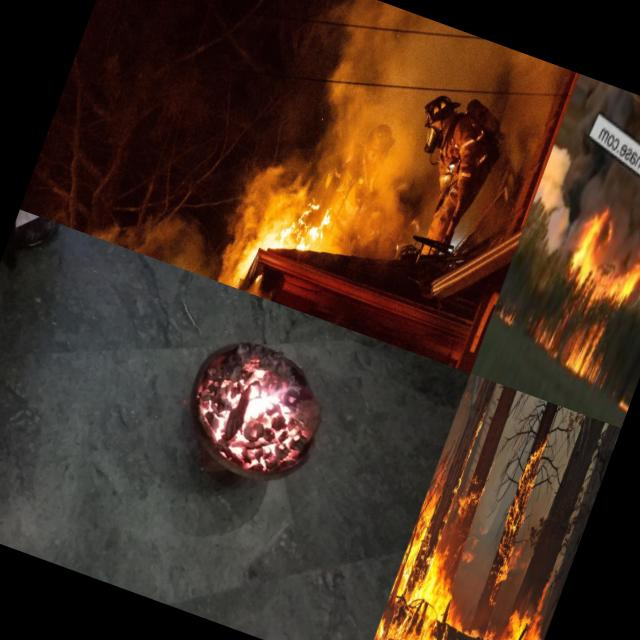fire: (360, 403, 610, 640), (185, 332, 333, 484), (224, 194, 321, 308), (561, 199, 640, 313), (559, 321, 625, 388), (527, 311, 569, 359), (489, 297, 524, 337), (614, 392, 632, 416)
smoke: (289, 0, 453, 177), (223, 124, 407, 244), (431, 28, 567, 132), (520, 143, 610, 260), (126, 192, 238, 282)
